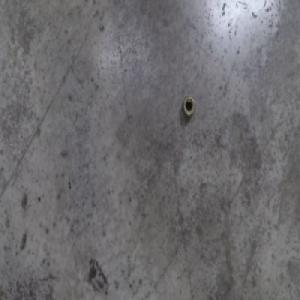Nut: (182, 94, 195, 117)
